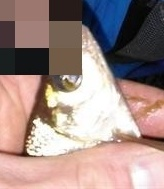Abramis brama: (20, 20, 144, 189)
